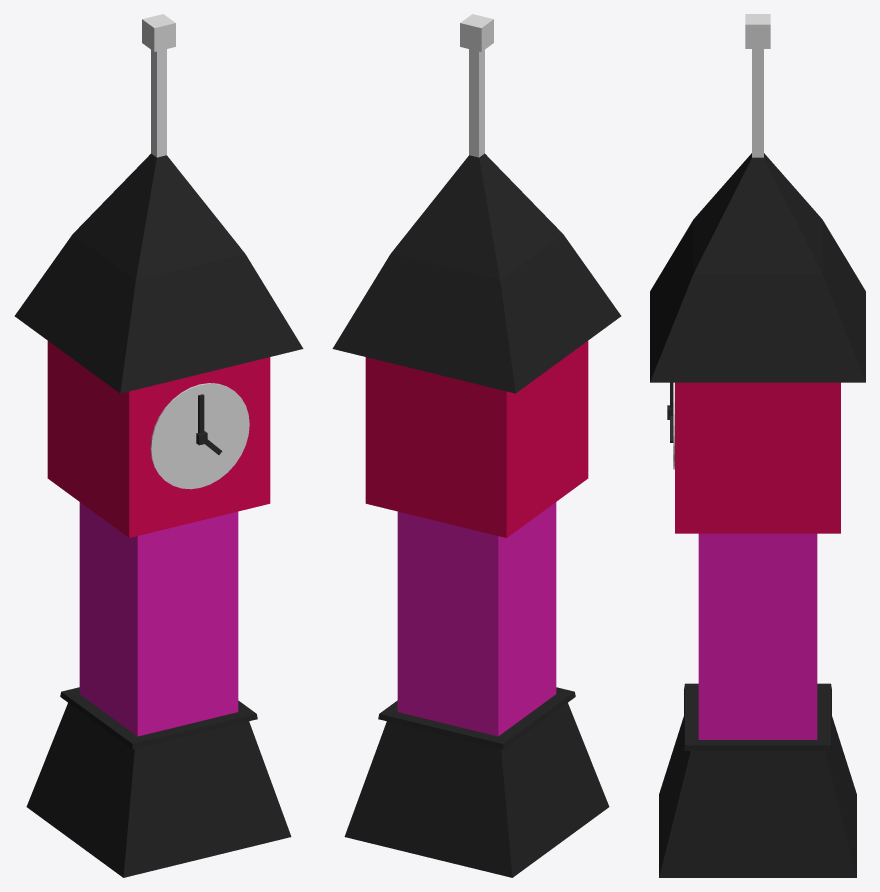
File: SpoopyClock.fbx
3 renders of one model, left to right at view 1: azimuth 30°, elevation 25°; view 2: azimuth 150°, elevation 25°; view 3: azimuth 270°, elevation 25°, orthographic.
Parts seen in each view (by area): view 1: Plane, Circle; view 2: Plane; view 3: Plane.
Boxes of the visible parts, bbox=[...] form: Plane: bbox=[14, 14, 303, 877]; Circle: bbox=[150, 383, 249, 489]; Plane: bbox=[332, 14, 621, 877]; Plane: bbox=[650, 14, 865, 877].
Bounding box in the file's own units: 1387 × 5790 × 1387.
